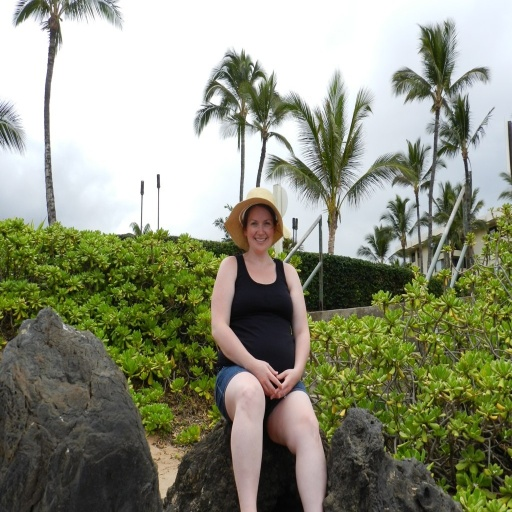hand: (249, 358, 282, 400), (269, 368, 295, 399)
